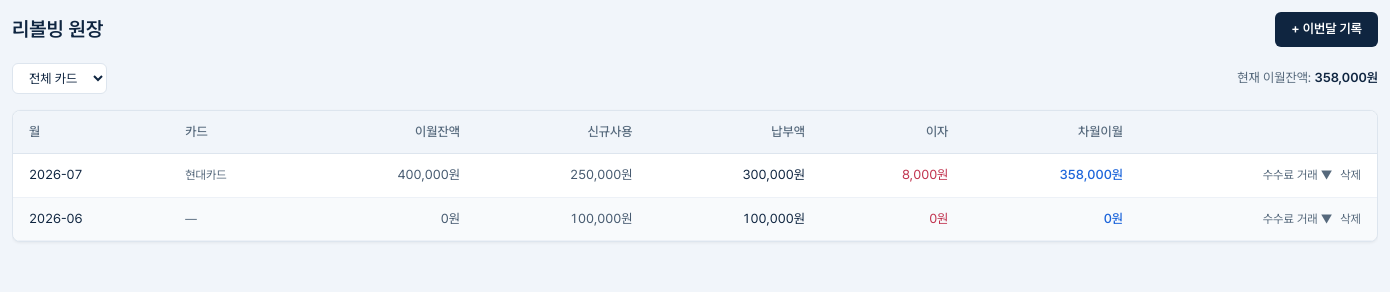
수수료 거래 펼치기 › 한 번에 한 줄만 펼친다
This screenshot has width=1390, height=292.
Click the button "수수료 거래 ▼" in the row of "2026-07": (1298, 175) 1263,167 -> 1332,183
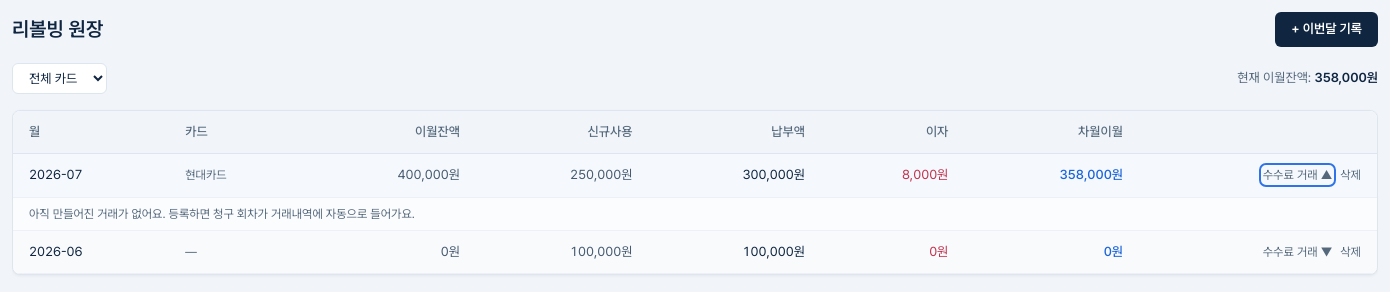
Result: the button "수수료 거래 ▲" is expanded at 1263,167 -> 1332,183
Click the button "수수료 거래 ▼": (1298, 252) 1263,244 -> 1332,260
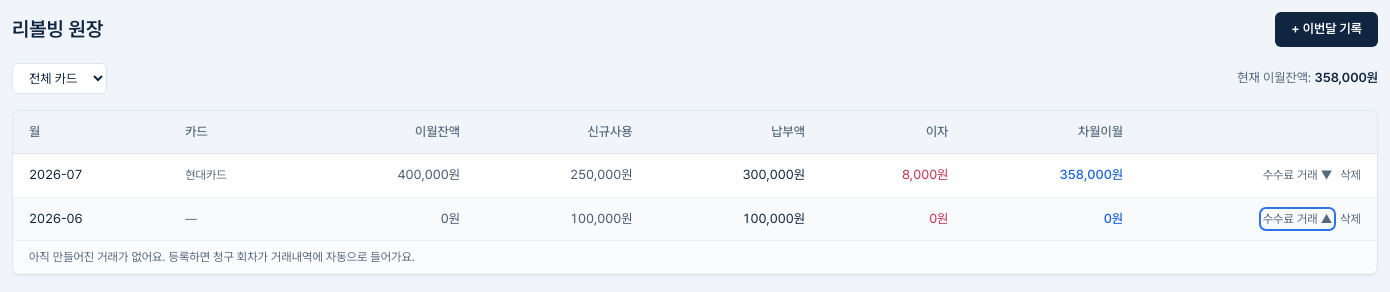
Result: the button "수수료 거래 ▲" is expanded at 1263,211 -> 1332,227
Result: the button "수수료 거래 ▼" is collapsed at 1263,167 -> 1332,183
